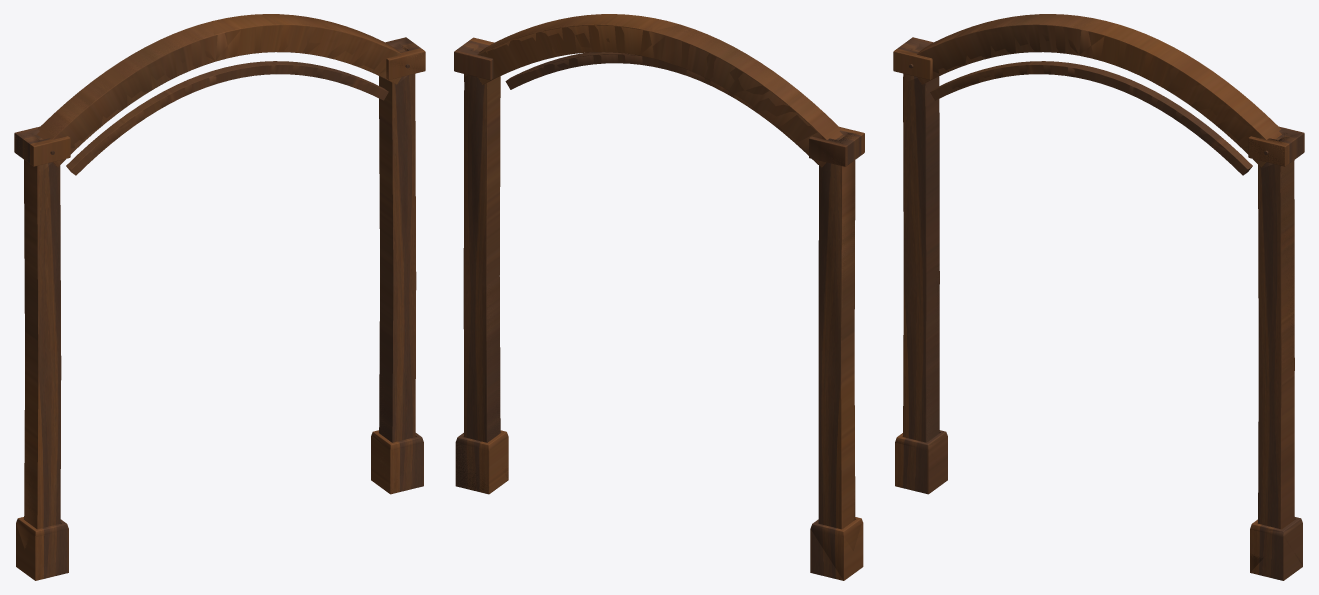
Rendered from CM_EntryPortal02.fbx.
3 views of the same model, side by side, from view 1: azimuth 30°, elevation 25°; view 2: azimuth 150°, elevation 25°; view 3: azimuth 330°, elevation 25° (orthographic).
Visible parts, largest first — view 1: 90_DistanceMesh, 01_Post_L, 01_Post_R, 04_ContinuousOuterArch, 05_ContinuousInnerTrim, 02_BaseShoe_L, 02_BaseShoe_R, 03_PostCap_R, 03_PostCap_L; view 2: 90_DistanceMesh, 04_ContinuousOuterArch, 01_Post_L, 01_Post_R, 02_BaseShoe_L, 02_BaseShoe_R, 05_ContinuousInnerTrim, 03_PostCap_L, 03_PostCap_R; view 3: 90_DistanceMesh, 01_Post_L, 01_Post_R, 04_ContinuousOuterArch, 05_ContinuousInnerTrim, 02_BaseShoe_R, 02_BaseShoe_L, 03_PostCap_L, 03_PostCap_R.
Boxes of the visible parts, bbox=[...] form: 90_DistanceMesh: bbox=[14, 14, 425, 571]; 01_Post_L: bbox=[379, 74, 416, 442]; 01_Post_R: bbox=[24, 162, 61, 529]; 04_ContinuousOuterArch: bbox=[37, 14, 401, 167]; 05_ContinuousInnerTrim: bbox=[66, 61, 388, 175]; 02_BaseShoe_L: bbox=[371, 430, 423, 494]; 02_BaseShoe_R: bbox=[16, 517, 68, 580]; 03_PostCap_R: bbox=[14, 127, 70, 166]; 03_PostCap_L: bbox=[386, 43, 425, 79]; 90_DistanceMesh: bbox=[454, 14, 864, 580]; 04_ContinuousOuterArch: bbox=[477, 14, 842, 167]; 01_Post_L: bbox=[463, 74, 500, 442]; 01_Post_R: bbox=[840, 166, 855, 529]; 02_BaseShoe_L: bbox=[455, 430, 508, 494]; 02_BaseShoe_R: bbox=[810, 517, 863, 580]; 05_ContinuousInnerTrim: bbox=[505, 52, 818, 164]; 03_PostCap_L: bbox=[454, 38, 493, 80]; 03_PostCap_R: bbox=[809, 126, 864, 166]; 90_DistanceMesh: bbox=[893, 14, 1304, 580]; 01_Post_L: bbox=[1258, 160, 1294, 529]; 01_Post_R: bbox=[903, 76, 939, 442]; 04_ContinuousOuterArch: bbox=[917, 14, 1280, 167]; 05_ContinuousInnerTrim: bbox=[930, 61, 1252, 175]; 02_BaseShoe_R: bbox=[895, 430, 947, 494]; 02_BaseShoe_L: bbox=[1250, 517, 1302, 580]; 03_PostCap_L: bbox=[1248, 127, 1304, 166]; 03_PostCap_R: bbox=[893, 39, 932, 79].
Size of the model in its own units: 2.43 by 2.98 by 0.221.
